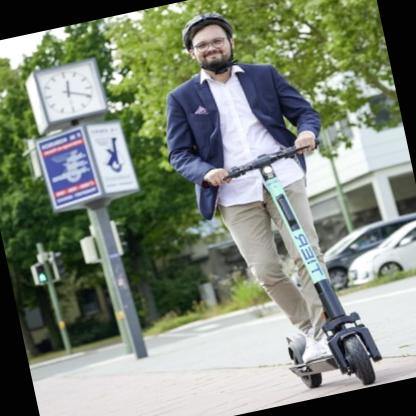helmet: (181, 14, 235, 77)
human: (165, 13, 347, 367)
kickboard: (286, 333, 382, 396)
